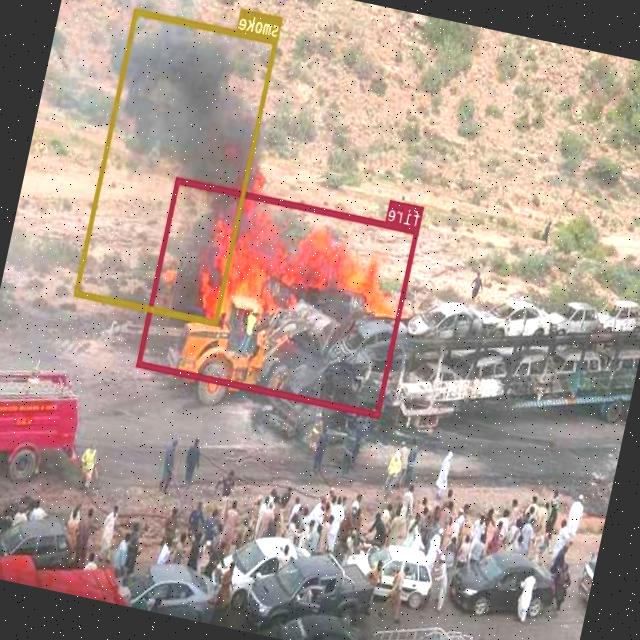fire: (137, 177, 420, 417)
smoke: (74, 7, 280, 326)
